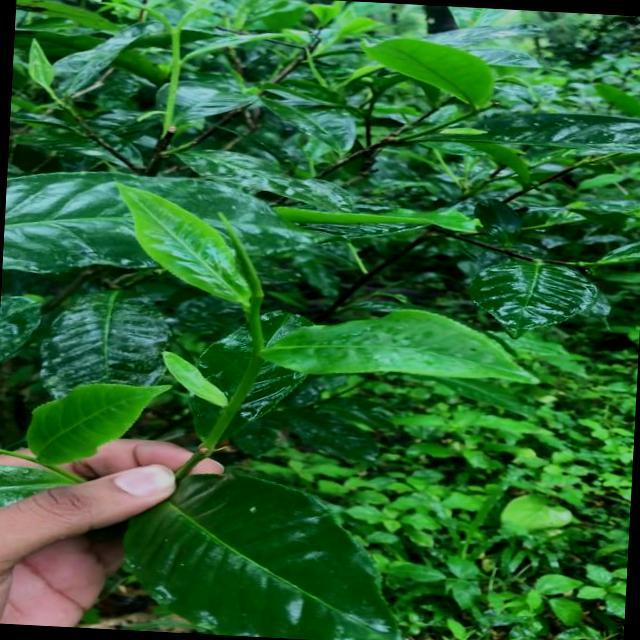Stem: (237, 356, 264, 393), (172, 34, 182, 66)
